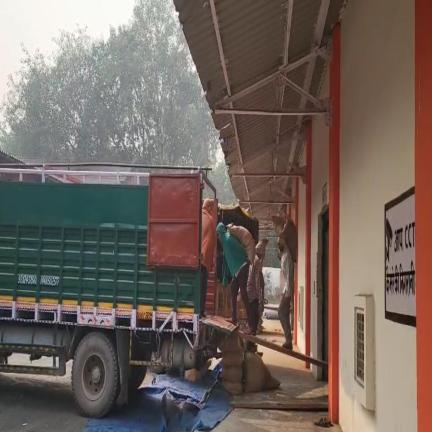Zone-Counting: (216, 222, 255, 332), (271, 216, 297, 348)
